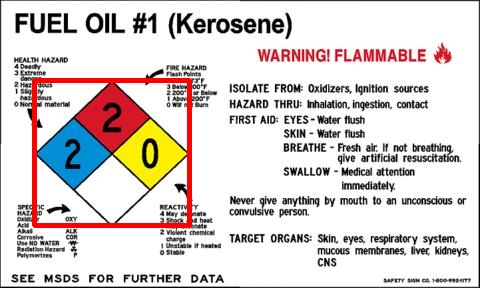nfpa: (34, 80, 189, 225)
